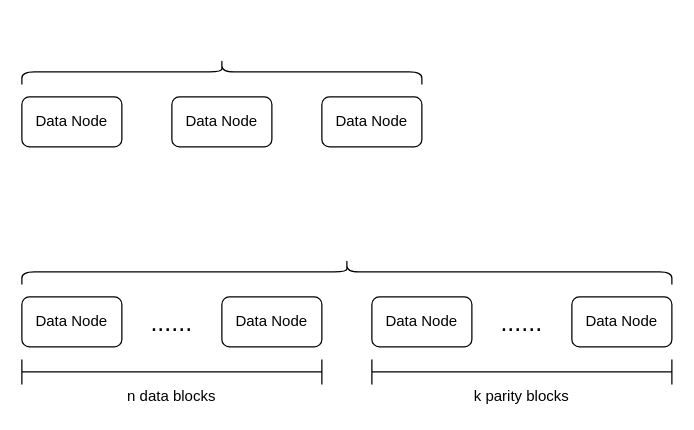
Some shapes in this 694 by 430 pixel diagram are drawn without their labels. The centre of each missing label's shape, as x and y in pixels:
"EC Data Patition" belongs at point (346, 271).
"Replicated Data Partition" belongs at point (221, 71).
